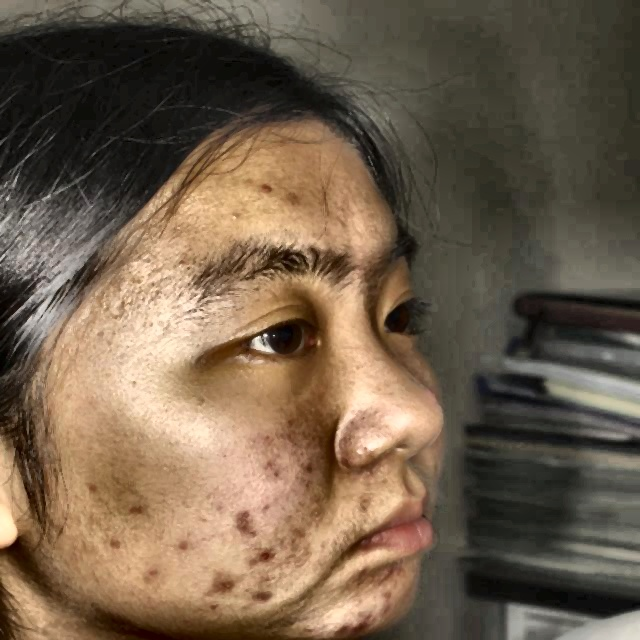pustule: (334, 601, 374, 634), (138, 561, 170, 593), (79, 469, 105, 506), (251, 578, 282, 607), (366, 588, 396, 616), (257, 172, 283, 204), (207, 567, 232, 600), (222, 509, 260, 529), (175, 530, 194, 568), (382, 554, 405, 582), (250, 539, 274, 560), (100, 539, 130, 551)
